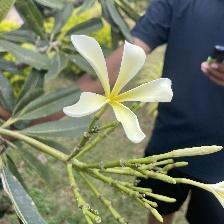champaka: (62, 31, 176, 147)
